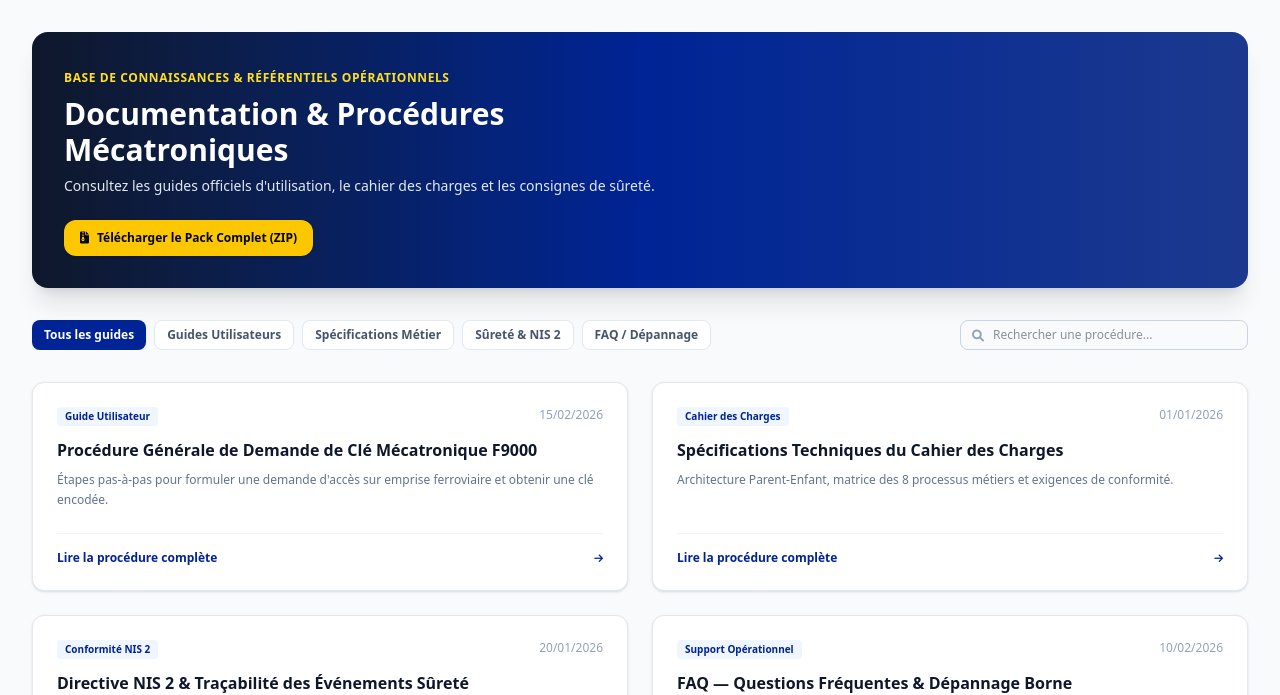
Test: Epic 4: Hub Opérationnel, Supervision Nationale & Gestion des Référentiels › User Story 4.4: Documentation & Base de Connaissances Spécifications › permet de consulter les spécifications et d'ouvrir le lecteur
This screenshot has width=1280, height=695.
expect the heading "Spécifications Techniques du Cahier des Charges" is shown: met, box 677,439 -> 1063,461
Click the text "Lire la procédure complète" below "Guide Utilisateur" at (137, 558), box 57,550 -> 217,566
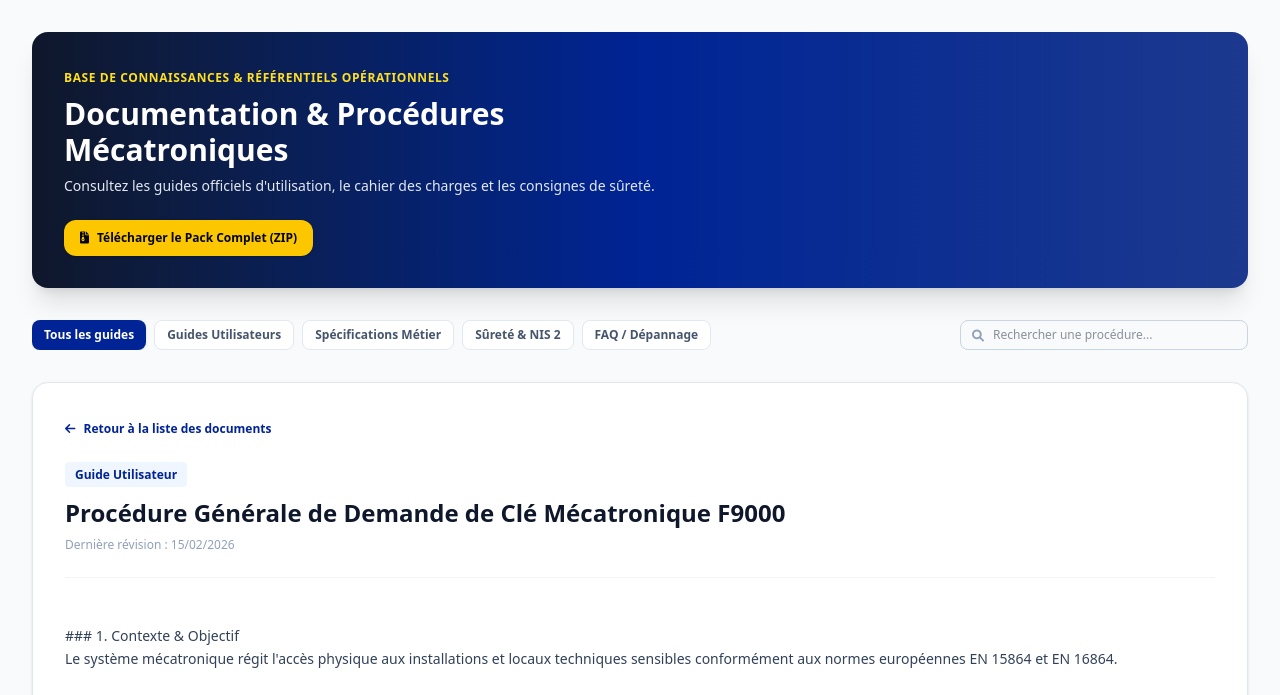
expect the text "Retour à la liste des documents" is shown: met, box 84,421 -> 272,437
